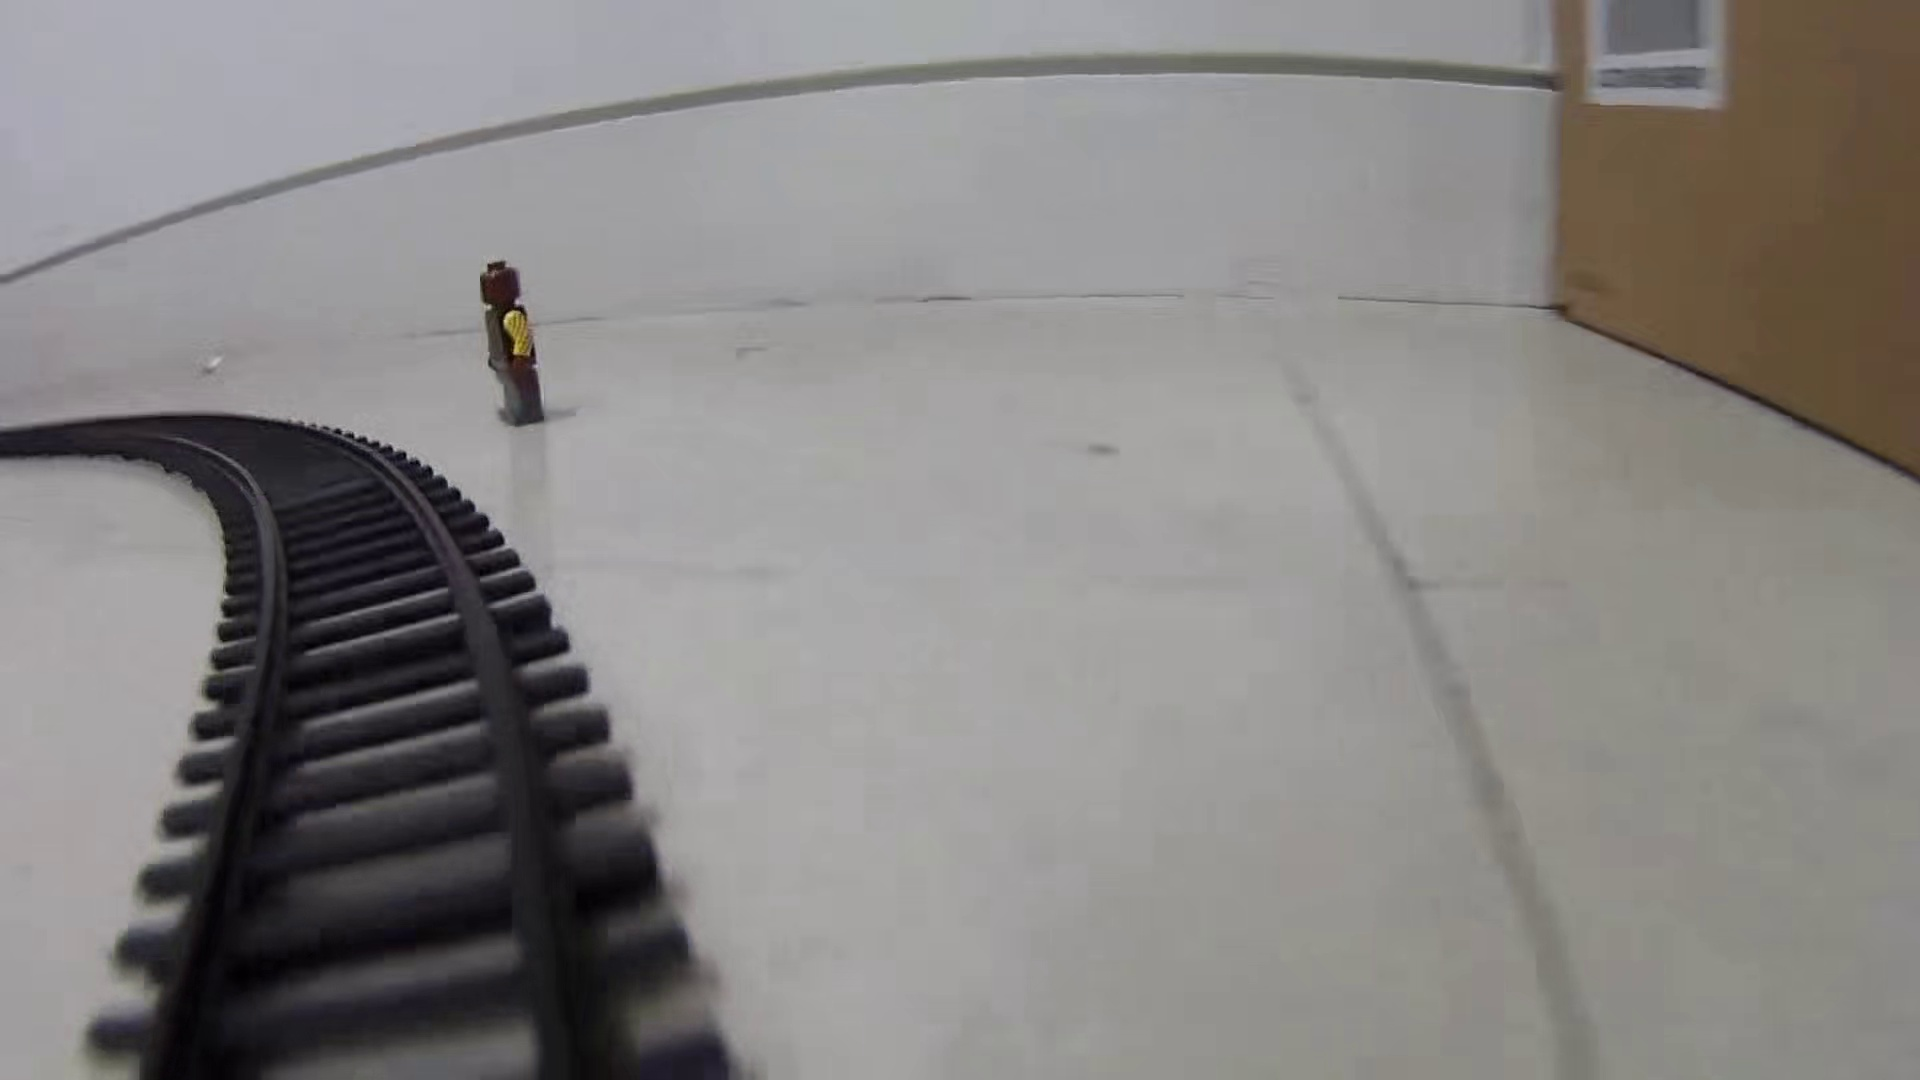people: (474, 258, 548, 429)
